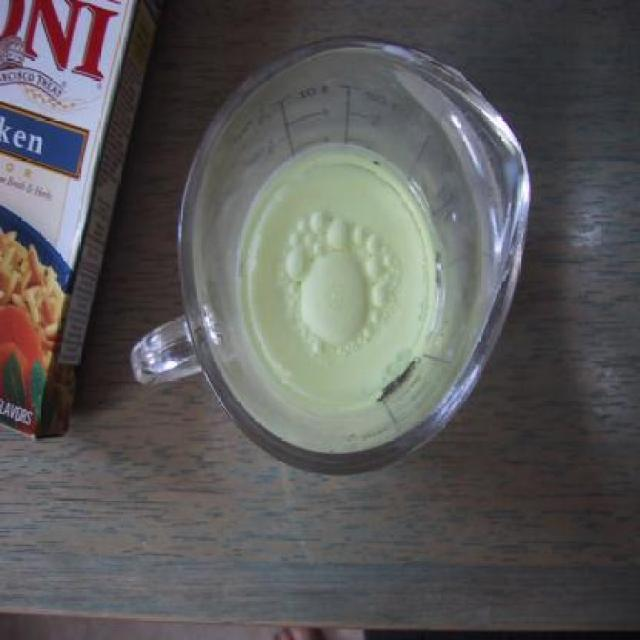Milk: (185, 104, 464, 452)
